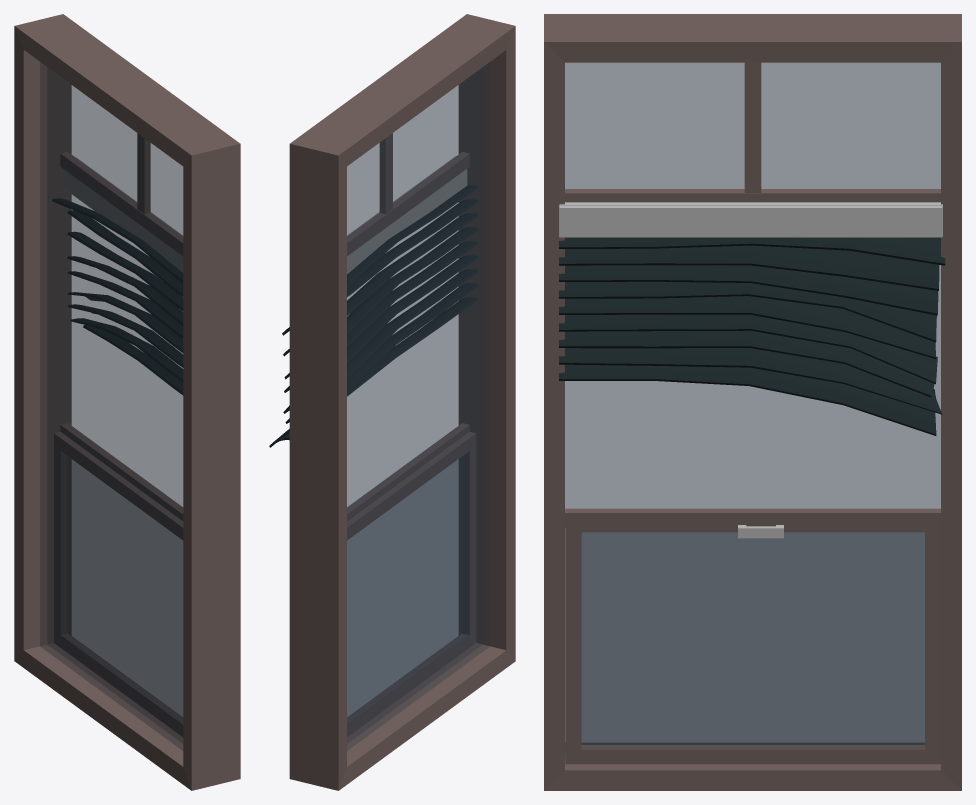
Rendered from Windows001.fbx.
The picture shows the model from 3 angles, left to right: view 1: azimuth 30°, elevation 25°; view 2: azimuth 150°, elevation 25°; view 3: azimuth 270°, elevation 25°; orthographic projection. The views are drawn at different scales.
Parts seen in each view (by area): view 1: Wall.000, Wall.004, Wall.017, Cube.073, Wall.016, Wall.007, Cube.077, Wall.003, Wall.008; view 2: Wall.000, Wall.004, Wall.017, Cube.073, Wall.016, Wall.007, Cube.077, Wall.003, Wall.008; view 3: Wall.004, Wall.017, Wall.000, Cube.073, Wall.016, Cube.077, Wall.003, Wall.007, Wall.008.
Part boxes in pixels (x1=…): Wall.000: x1=14, y1=14, x2=240, y2=790; Wall.004: x1=40, y1=62, x2=183, y2=750; Wall.017: x1=60, y1=451, x2=182, y2=724; Cube.073: x1=52, y1=198, x2=183, y2=394; Wall.016: x1=54, y1=432, x2=183, y2=736; Wall.007: x1=60, y1=152, x2=183, y2=255; Cube.077: x1=63, y1=157, x2=183, y2=272; Wall.003: x1=60, y1=423, x2=183, y2=520; Wall.008: x1=137, y1=133, x2=150, y2=213; Wall.000: x1=289, y1=14, x2=515, y2=790; Wall.004: x1=347, y1=62, x2=489, y2=750; Wall.017: x1=347, y1=451, x2=469, y2=724; Cube.073: x1=269, y1=185, x2=477, y2=447; Wall.016: x1=347, y1=432, x2=476, y2=736; Wall.007: x1=347, y1=152, x2=469, y2=255; Cube.077: x1=347, y1=156, x2=467, y2=273; Wall.003: x1=347, y1=423, x2=469, y2=520; Wall.008: x1=379, y1=133, x2=392, y2=214; Wall.004: x1=565, y1=62, x2=940, y2=751; Wall.017: x1=581, y1=532, x2=924, y2=748; Wall.000: x1=544, y1=14, x2=961, y2=790; Cube.073: x1=559, y1=237, x2=945, y2=435; Wall.016: x1=565, y1=525, x2=940, y2=764; Cube.077: x1=559, y1=202, x2=942, y2=237; Wall.003: x1=565, y1=508, x2=940, y2=528; Wall.007: x1=565, y1=189, x2=940, y2=202; Wall.008: x1=744, y1=62, x2=761, y2=192.
Size of the model in its own units: 0.3941 by 2.98 by 1.51.
